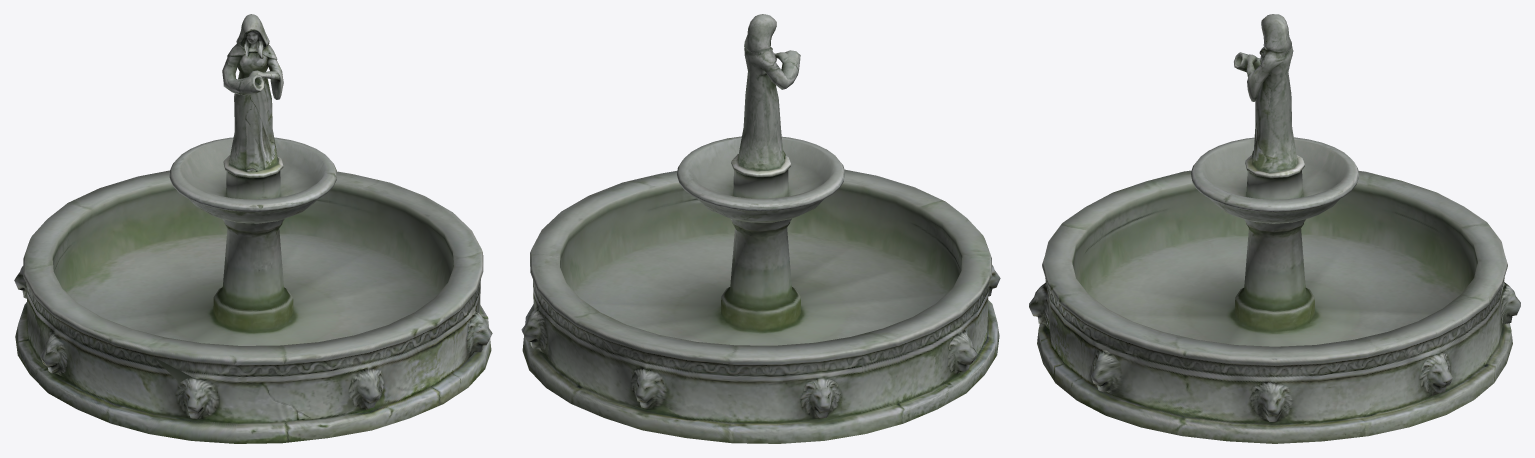
File: fontana.glb
The picture shows the model from 3 angles, left to right: view 1: azimuth 30°, elevation 25°; view 2: azimuth 150°, elevation 25°; view 3: azimuth 270°, elevation 25°; orthographic projection.
Parts seen in each view (by area): view 1: fontana; view 2: fontana; view 3: fontana.
Boxes of the visible parts, left/top/right/bottom form: fontana: left=14, top=14, right=492, bottom=443; fontana: left=521, top=14, right=1000, bottom=443; fontana: left=1029, top=14, right=1520, bottom=443.
Bounding box in the file's own units: 0.9995 × 0.7368 × 0.9995.
Materials: 1 (1 with a texture image).
